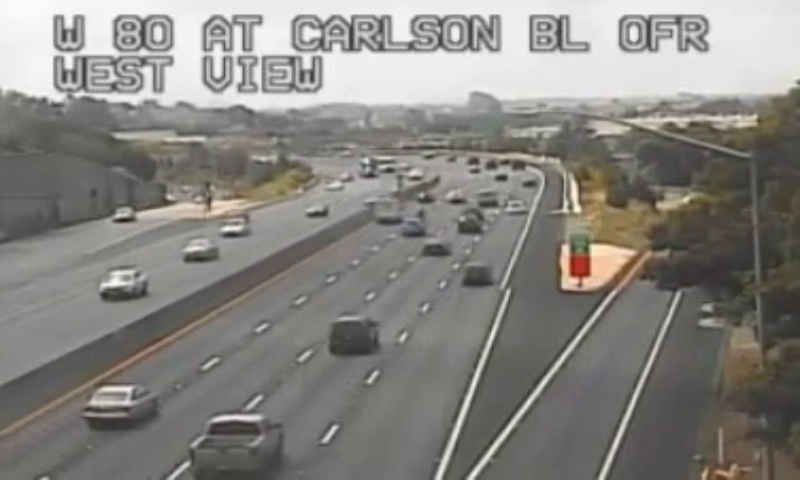car: (187, 413, 280, 472), (80, 384, 155, 422), (329, 315, 378, 354), (463, 263, 489, 286)
